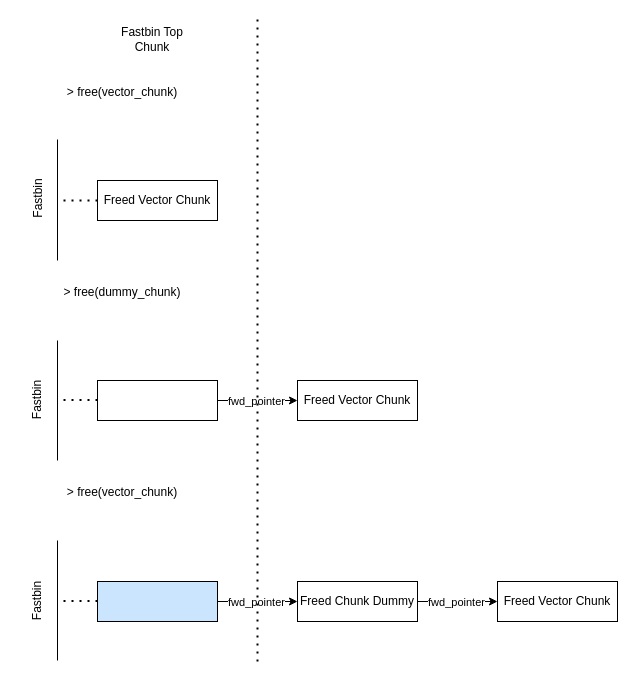
The diagram is 635 pixels wide and 680 high, and some of its shapes have lost their labels. The shapes that lost their labels are listed below. From the top down, each one's centre as x and y in pixels, then its label:
At [157,400]: "Freed Dummy Chunk".
At [157,601]: "Freed Vector Chunk (duplicated)".
